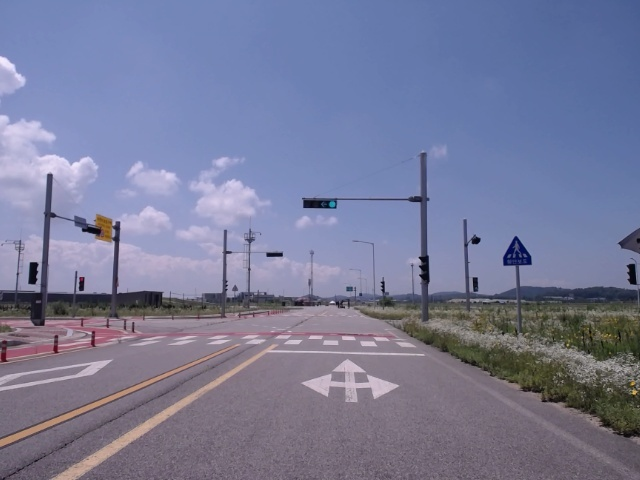all_green_4: (303, 199, 337, 209)
